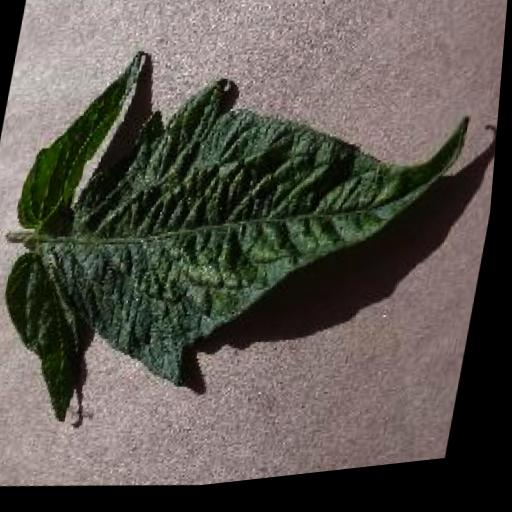Spider Mites: (0, 17, 488, 467)
